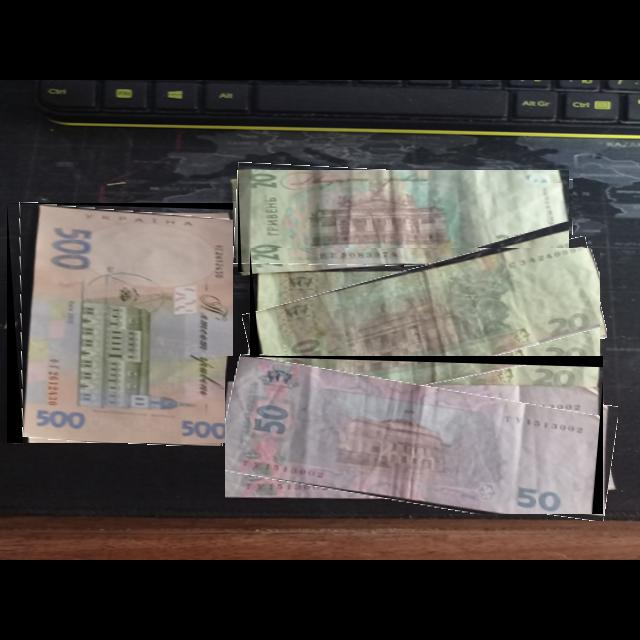20uah: (256, 248, 601, 412), (239, 170, 570, 264)
500uah: (20, 205, 234, 444)
50uah: (225, 357, 602, 515)
